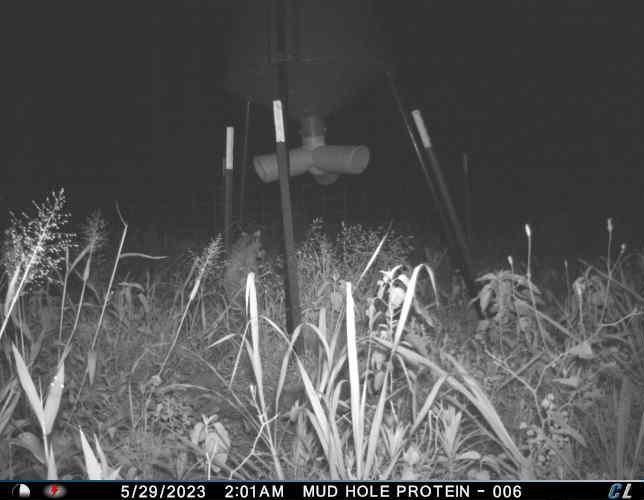Raccoon: (223, 224, 269, 294)
